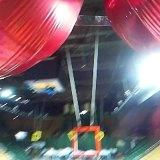Orange_Square_GShape: (71, 126, 101, 159)
Yellow_Square_GShape: (32, 131, 41, 141)
